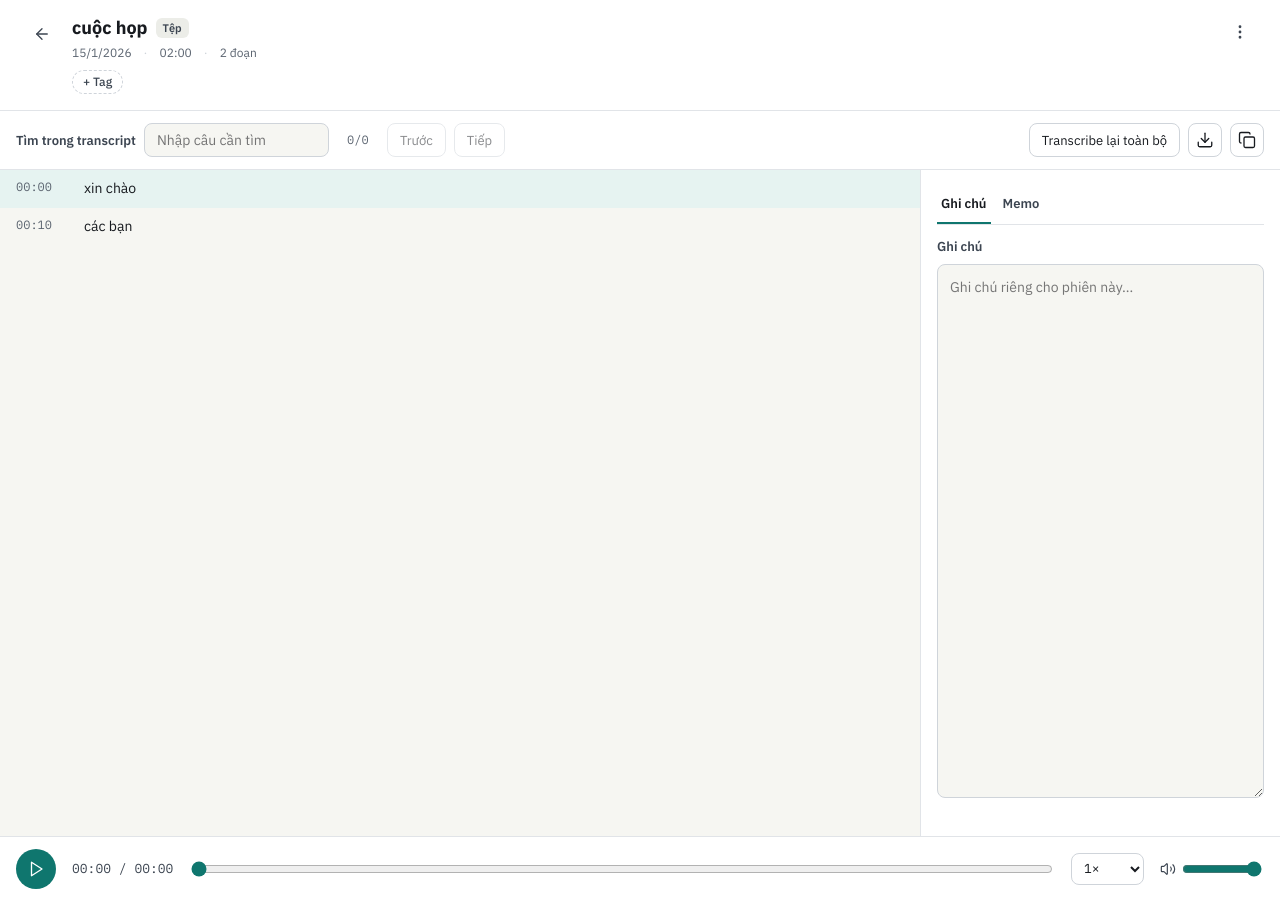
Scenario: Session route › reports clipboard failures inline and never shows a success toast
Click the button named "Copy toàn bộ".
click(1247, 140)  # box [1230,123,1264,157]
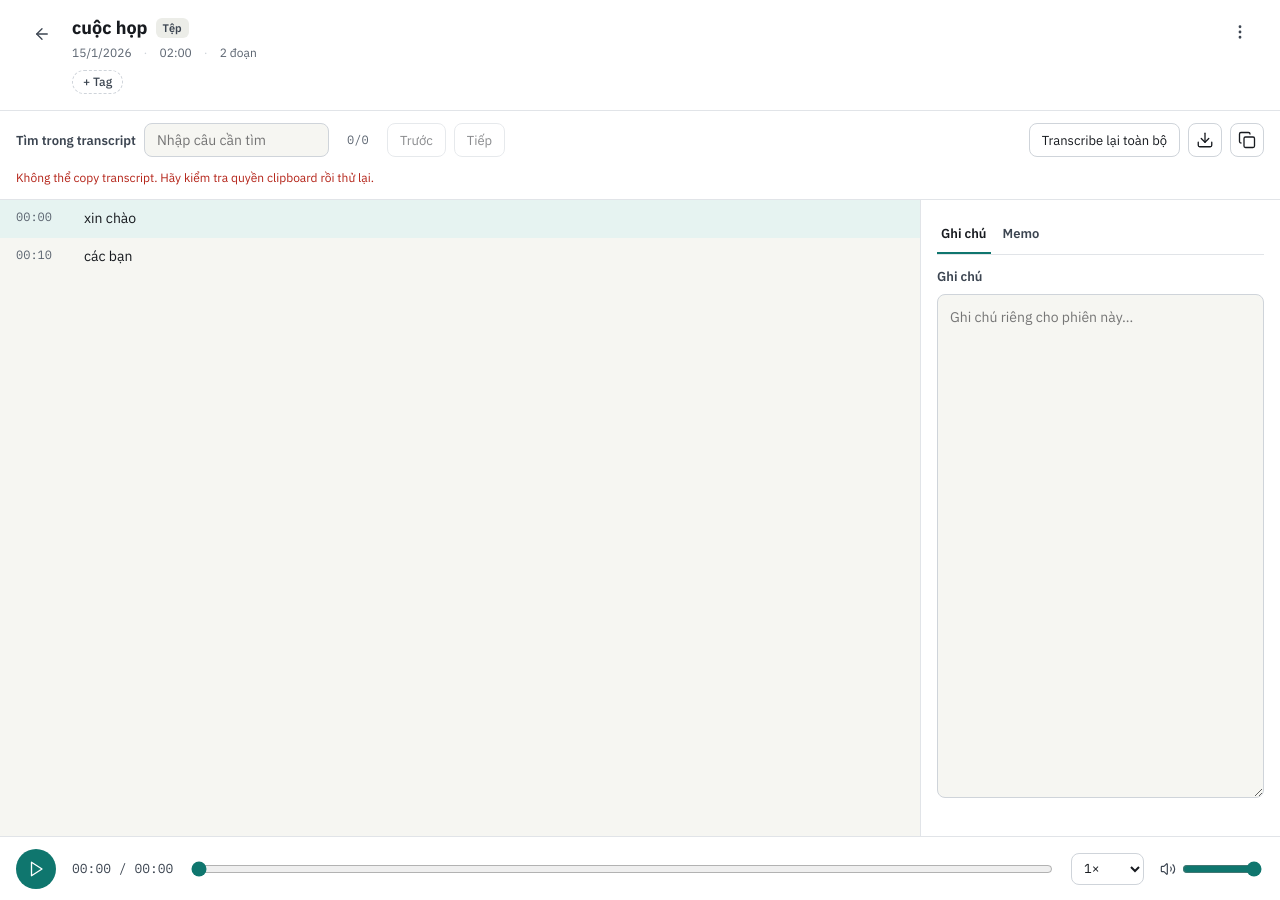
Check: the message "Không thể copy transcript. Hãy kiểm tra quyền clipboard rồi thử lại." is shown, box [16,170,374,185]
